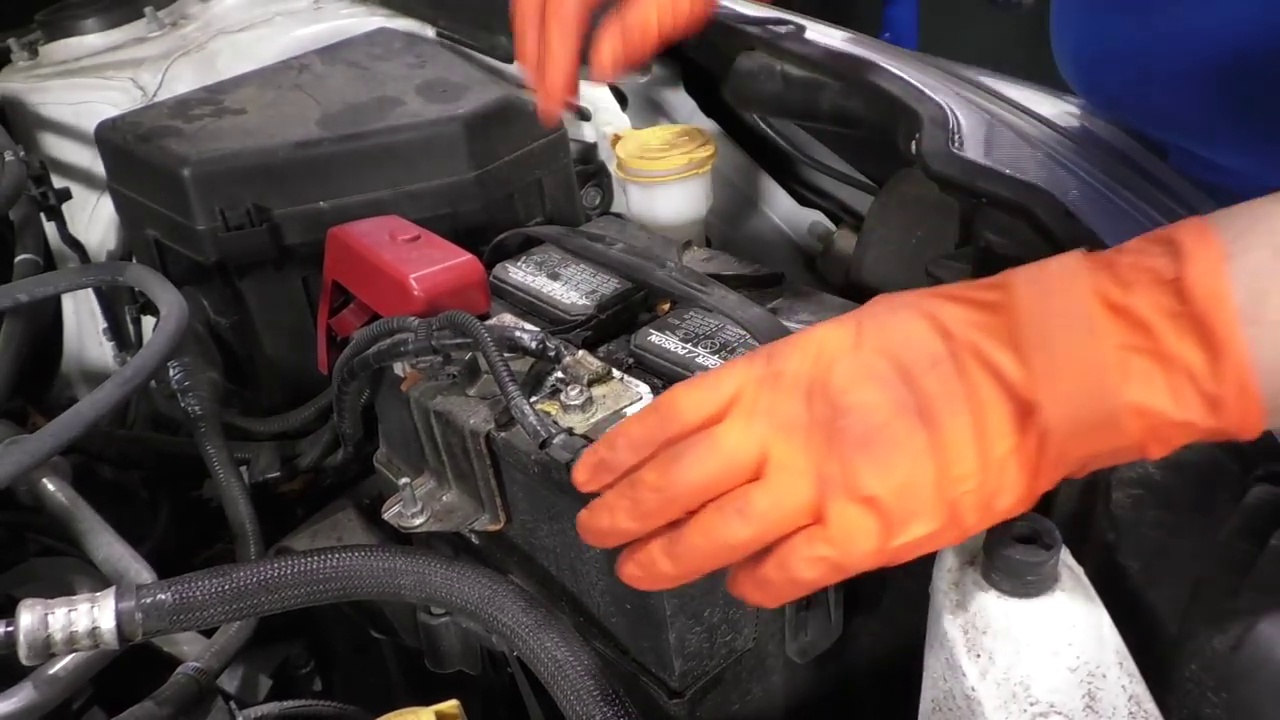battery: (319, 206, 838, 464)
pos_connected: (314, 190, 492, 383)
